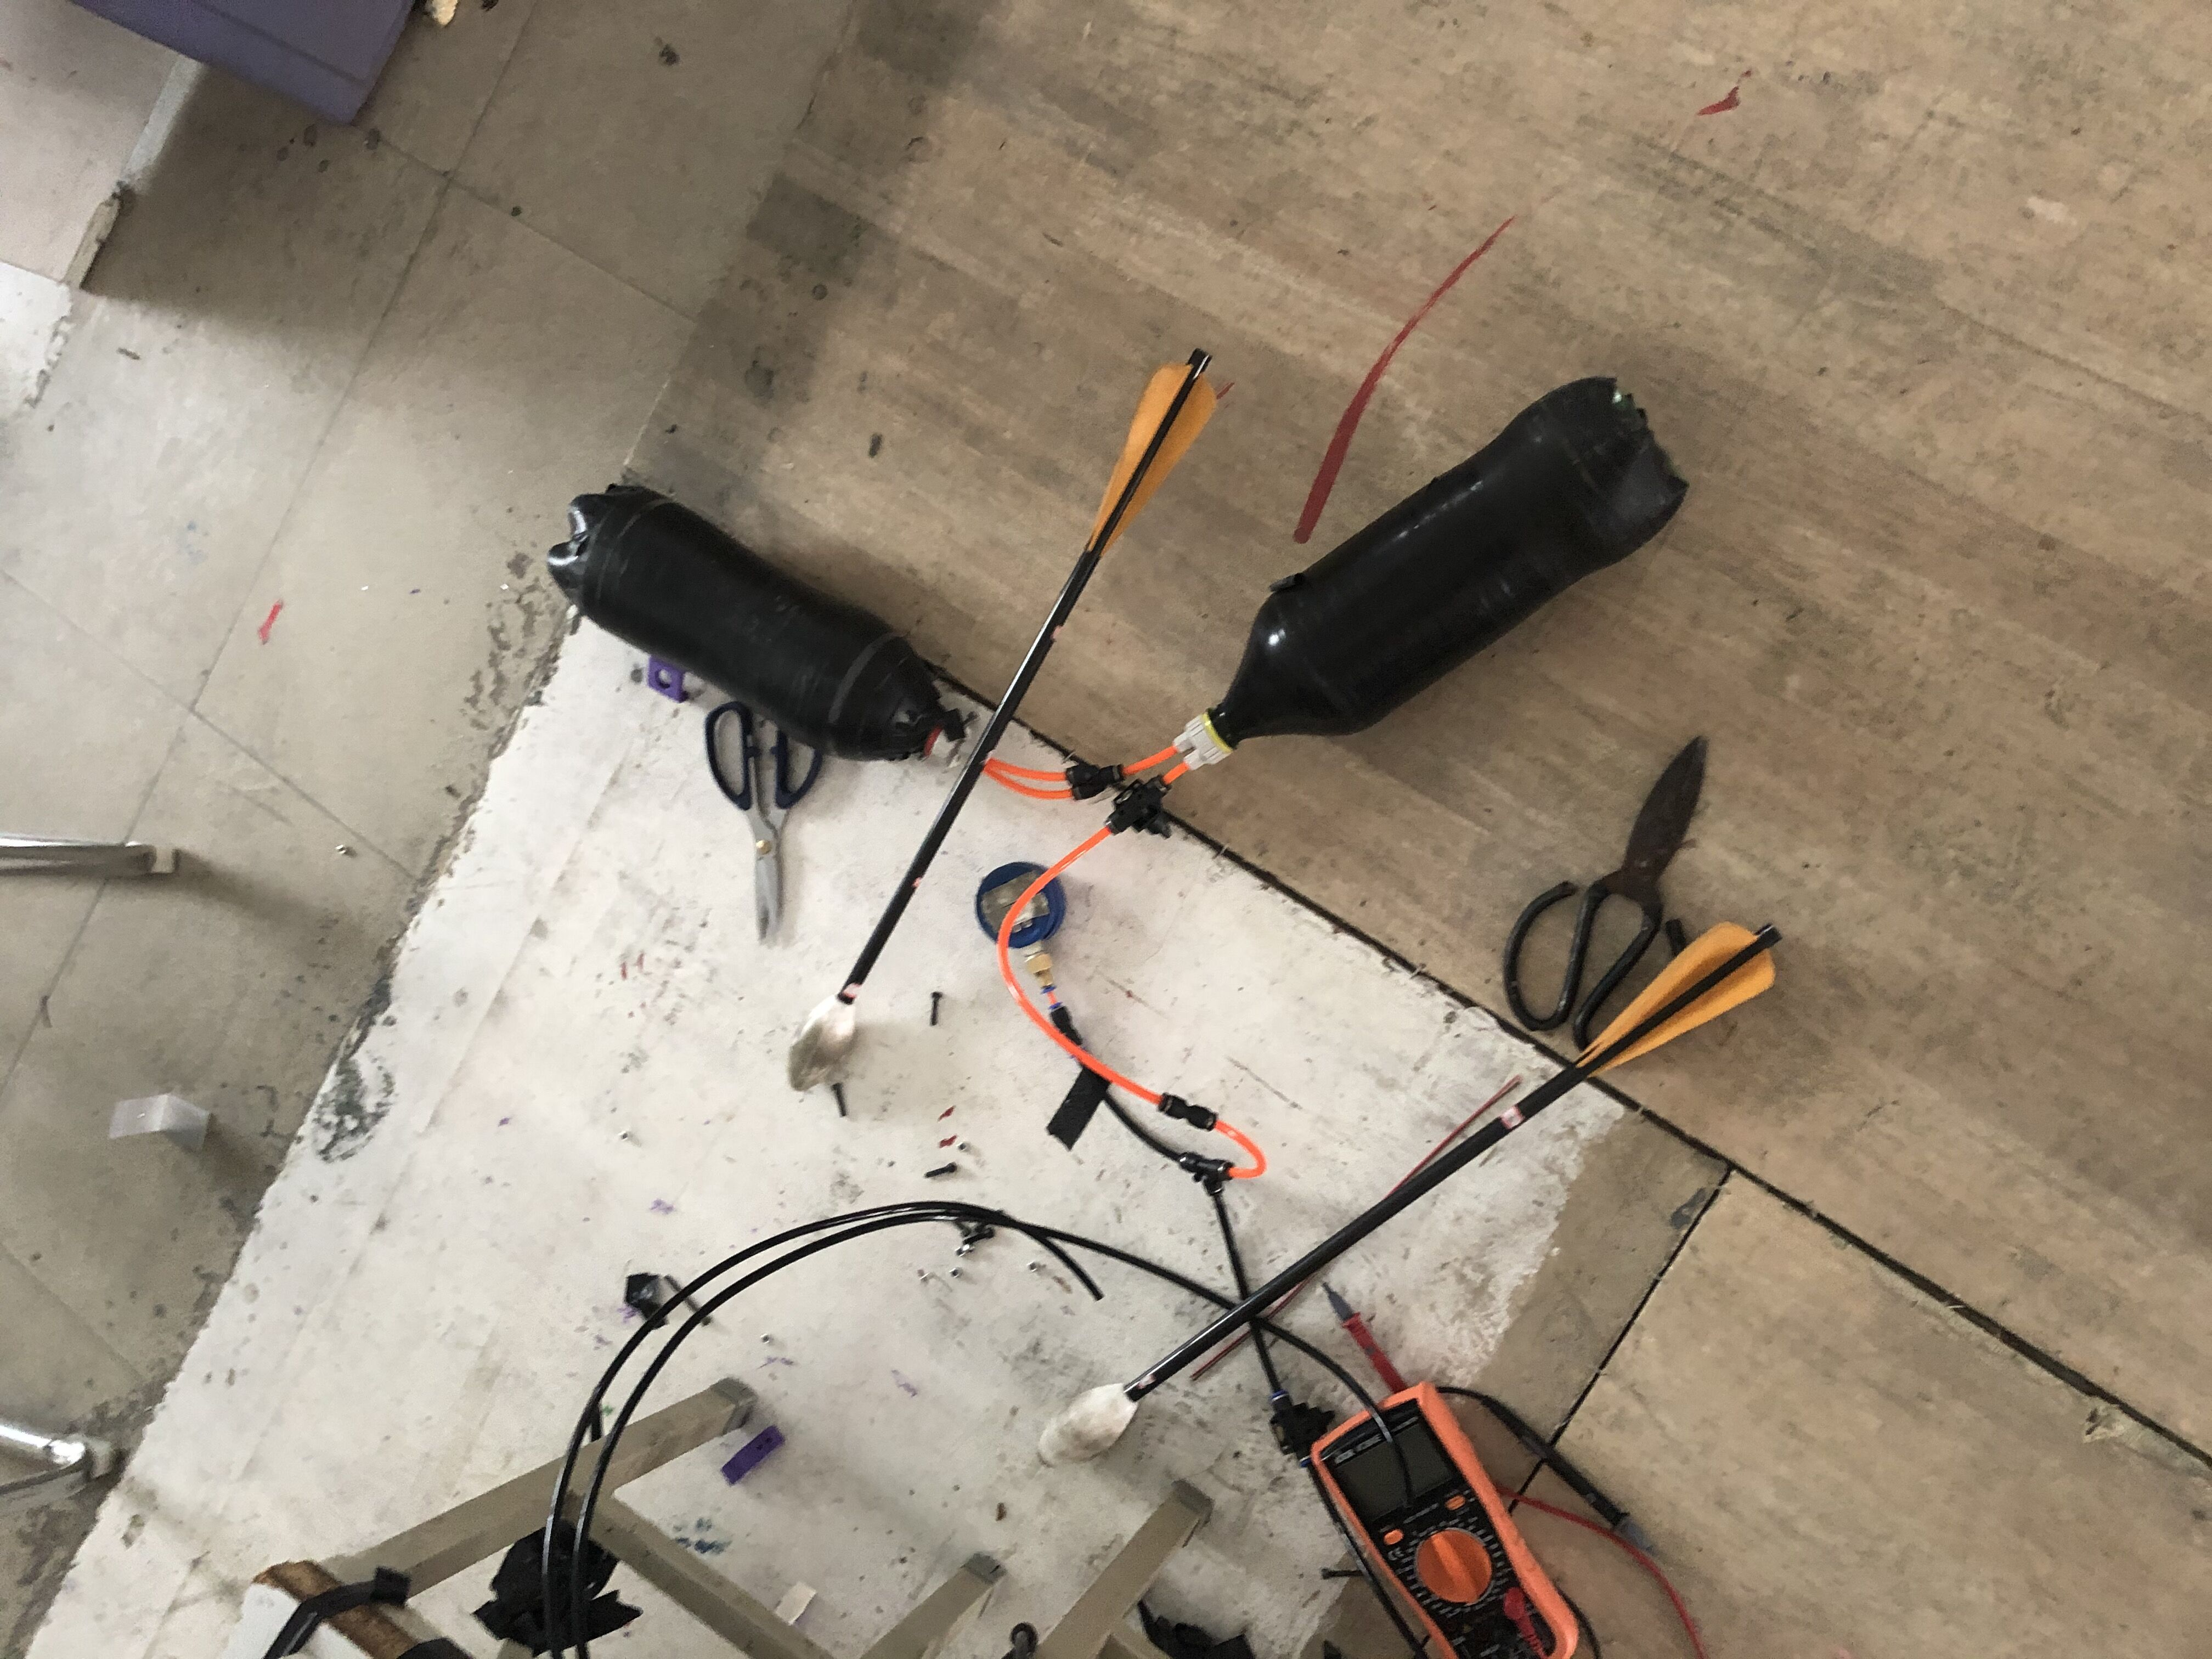arrow: (1038, 920, 1782, 1459), (787, 345, 1223, 1091)
arrowFront: (1035, 1378, 1139, 1460), (791, 999, 855, 1093)
